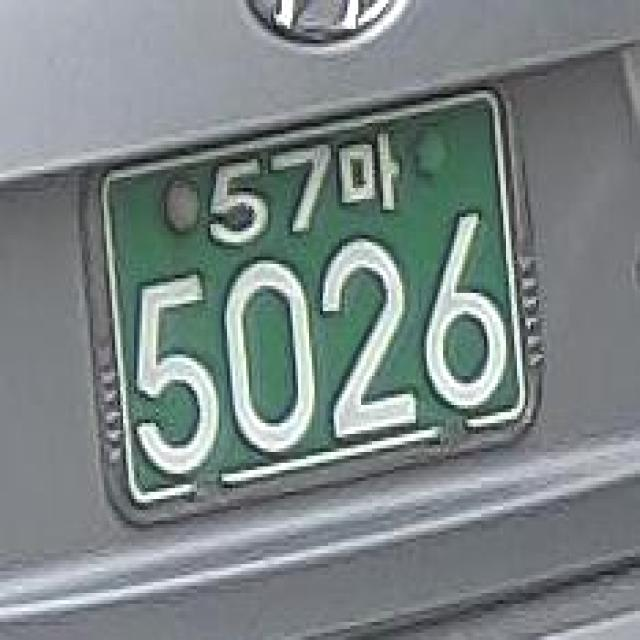illegal_plate: (78, 76, 549, 532)
